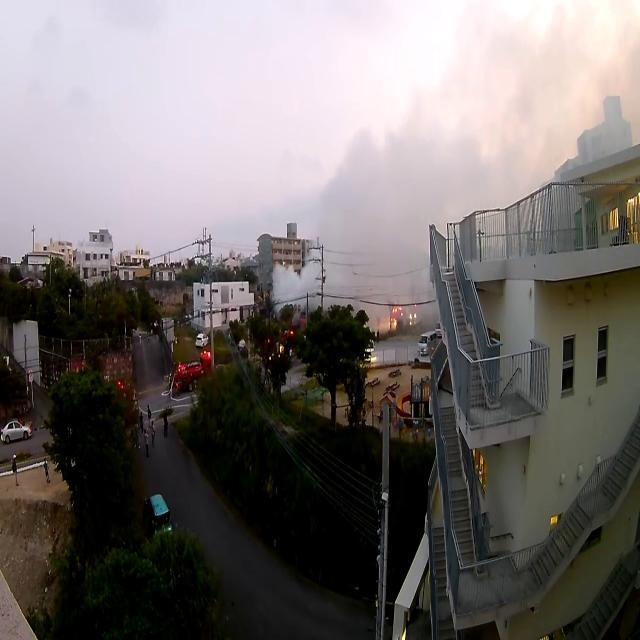Smoke: (270, 48, 536, 314)
